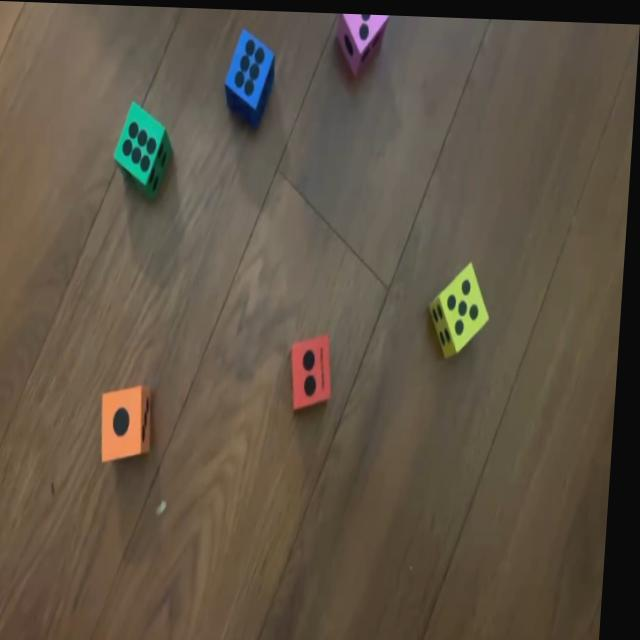blue_block: (222, 21, 277, 121)
red_block: (291, 331, 341, 408)
